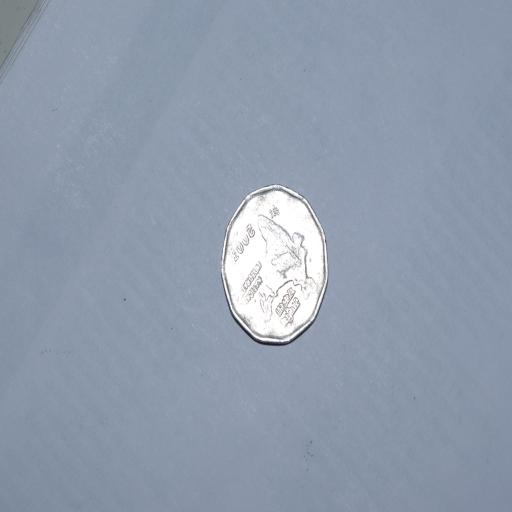rupee2: (216, 181, 330, 349)
